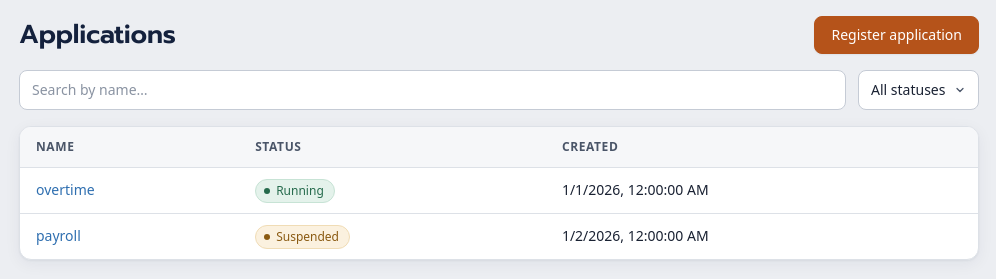
Test case: ApplicationList › filters the list by search text
Expected: the link "overtime" is shown, [36,180,95,199]
Type "pay" into the field named "search applications" at (432, 90), box [19,70,846,110]
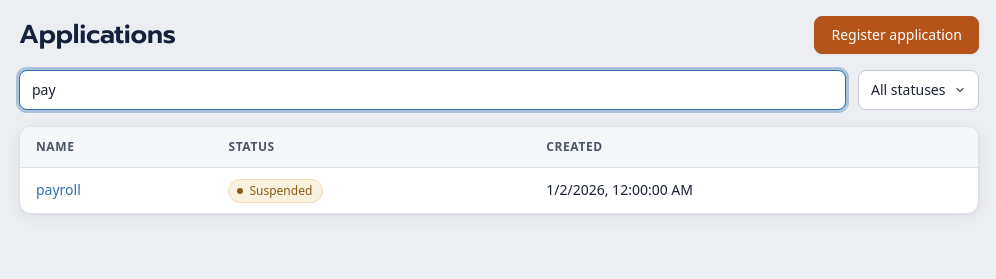
Expected: the link "payroll" is shown, [36,180,81,199]
Now the link "overtime" is gone
